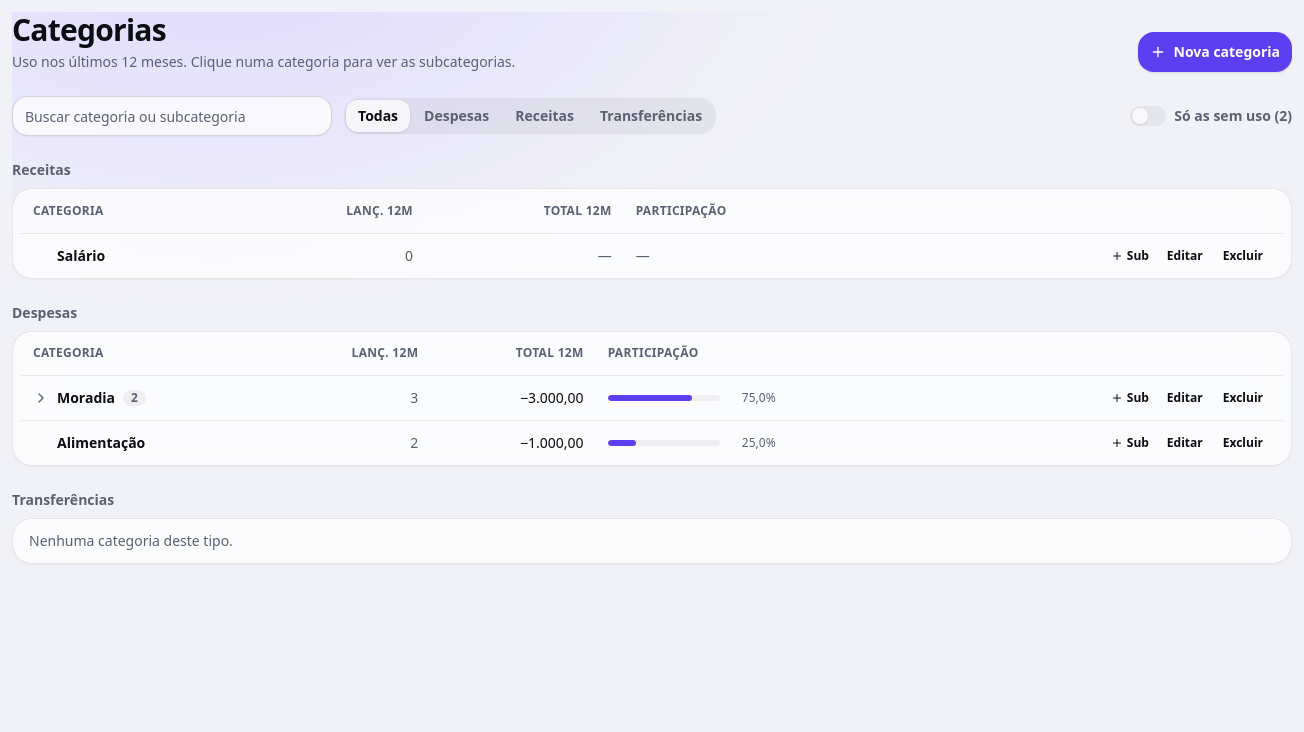
Test: CategoriesPage › keeps a main category whose subcategory matches the search
Check: the text "Moradia" is shown, box x1=57 y1=388 x2=115 y2=408
Type "alug" into the search field labelled "Buscar categoria" at (172, 116), box x1=12 y1=96 x2=332 y2=136
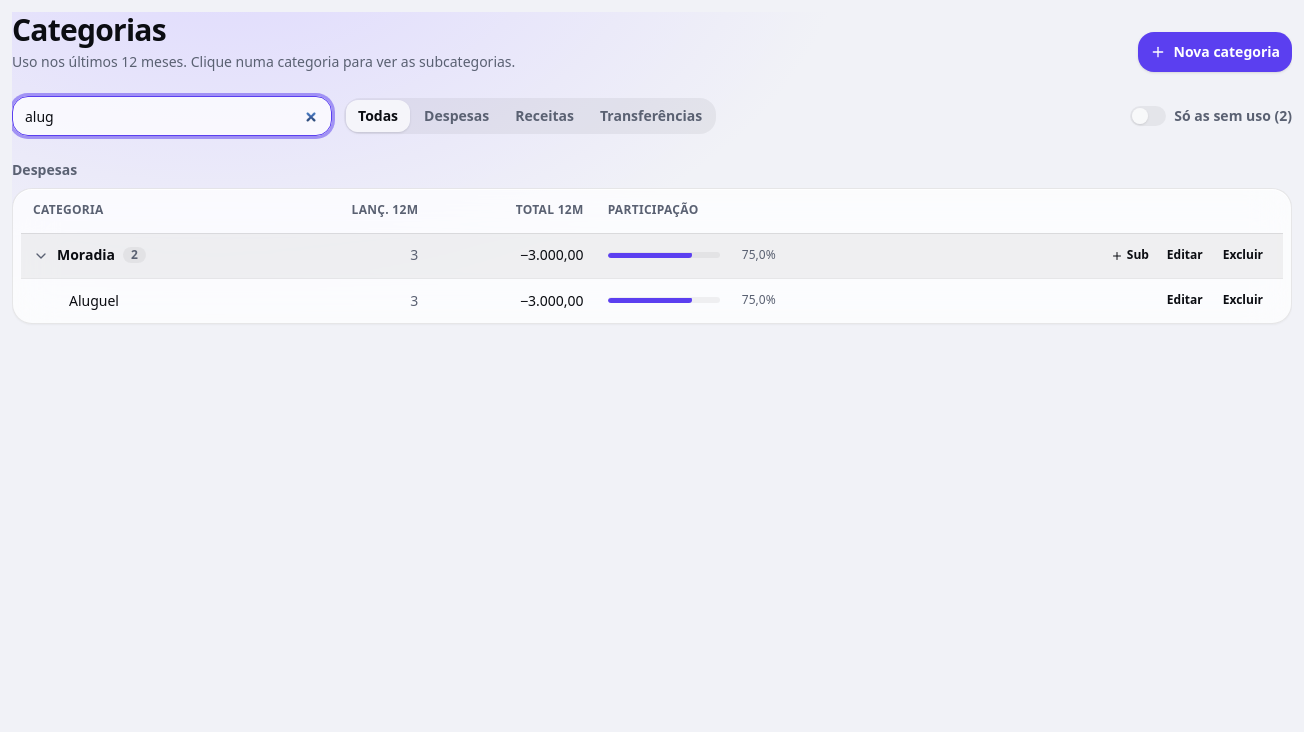
Check: the text "Moradia" is shown, box x1=57 y1=246 x2=115 y2=266
Check: the text "Aluguel" is shown, box x1=69 y1=290 x2=119 y2=310
Check: the text "Alimentação" is gone
